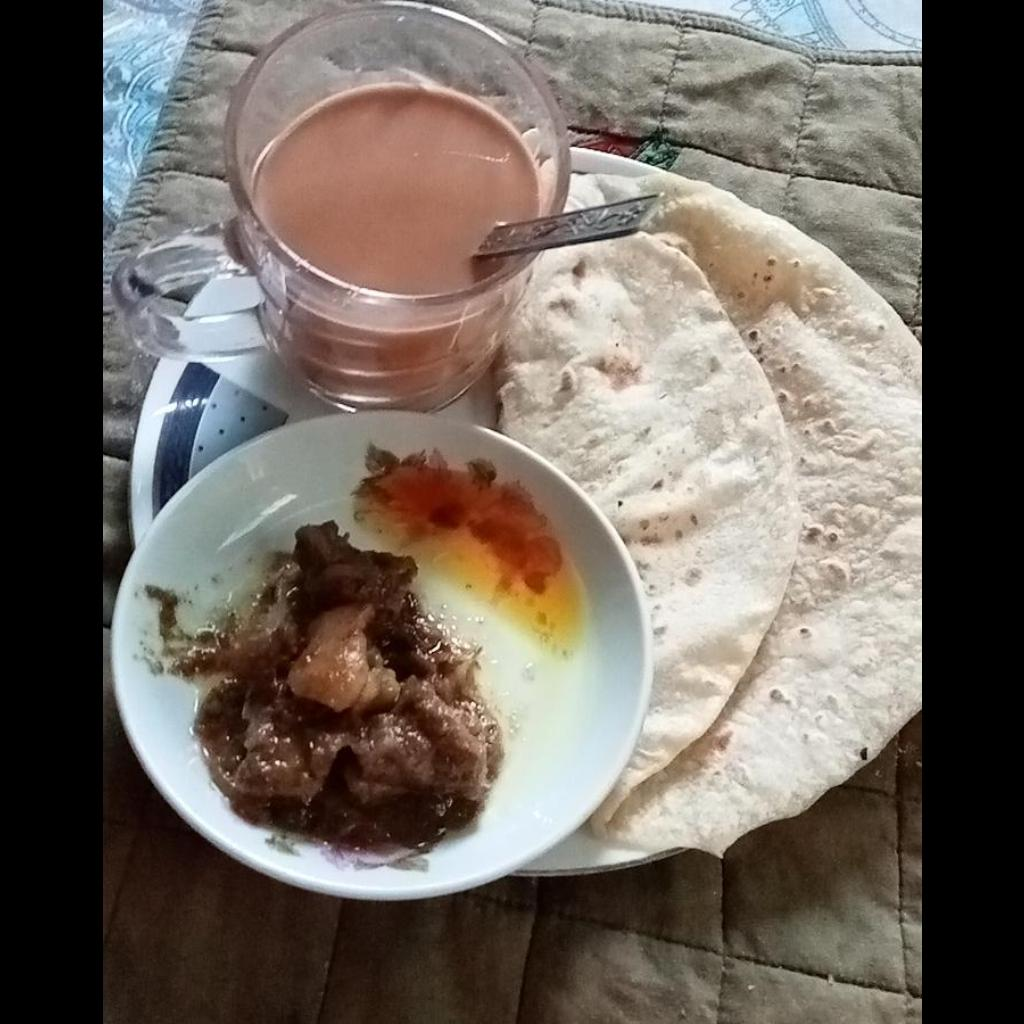beef: (176, 516, 506, 847)
cha: (255, 88, 539, 288)
ruti: (499, 145, 920, 855)
